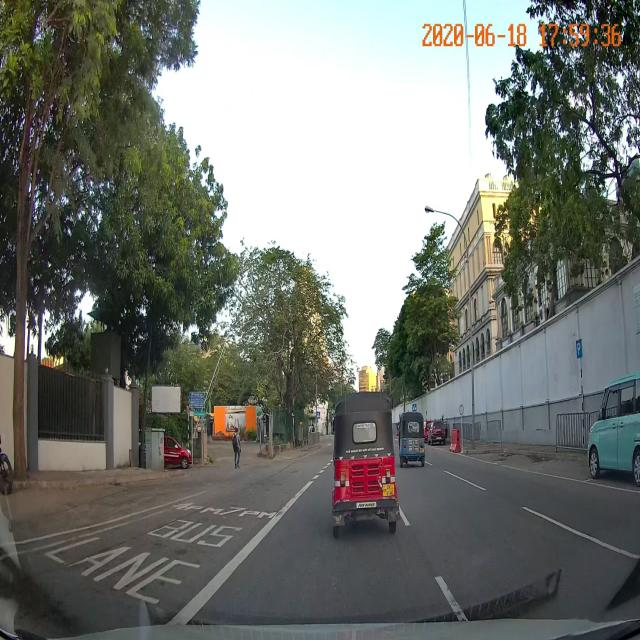BUS LANE: (37, 515, 248, 611)
